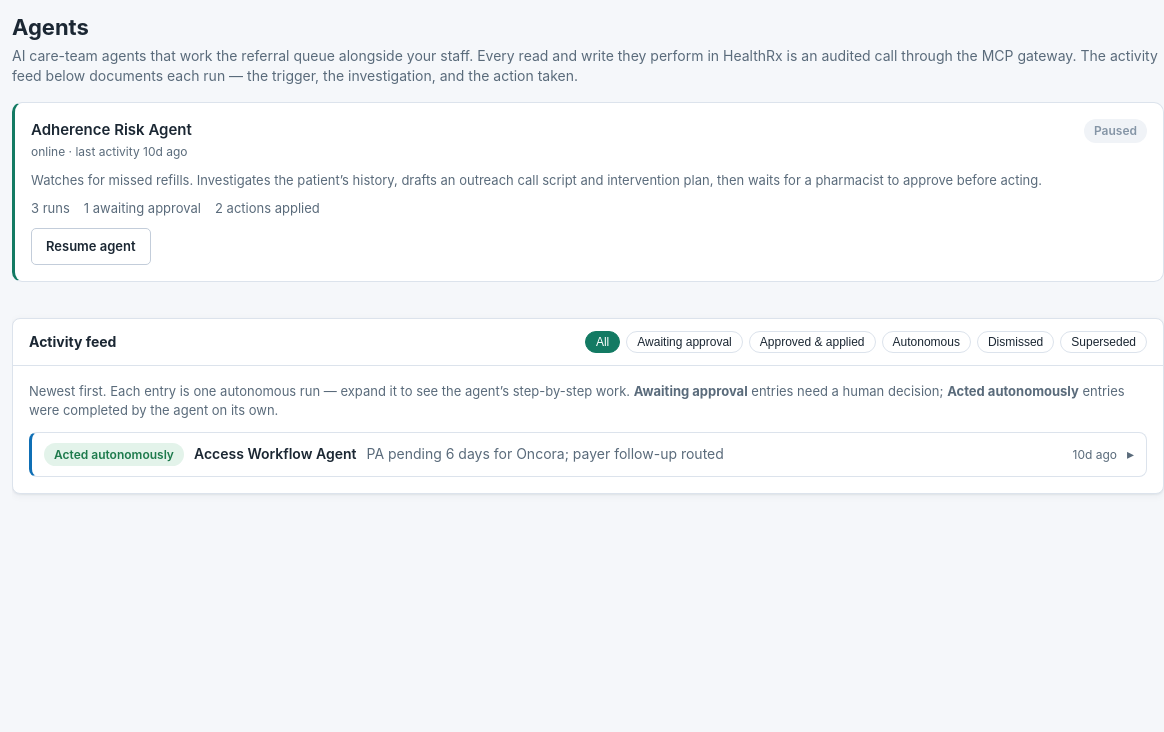
Test case: AgentsPage › renders an AUTO_APPLIED access-agent action with its routed task
Click the text "PA pending 6 days for Oncora; payer follow-up routed" at (545, 454), box [366, 445, 724, 462]
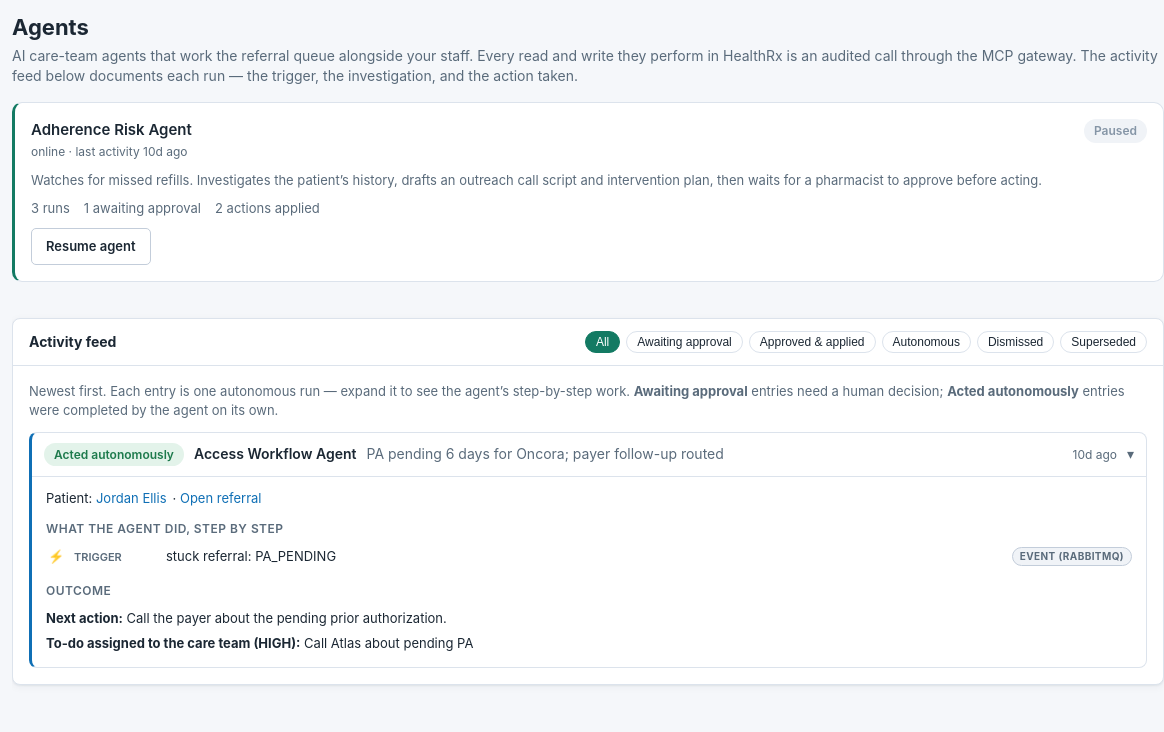
Now the text "Call the payer about the pending prior authorization" is shown, box [126, 610, 447, 626]
Now the text "Call Atlas about pending PA" is shown, box [304, 635, 473, 651]
